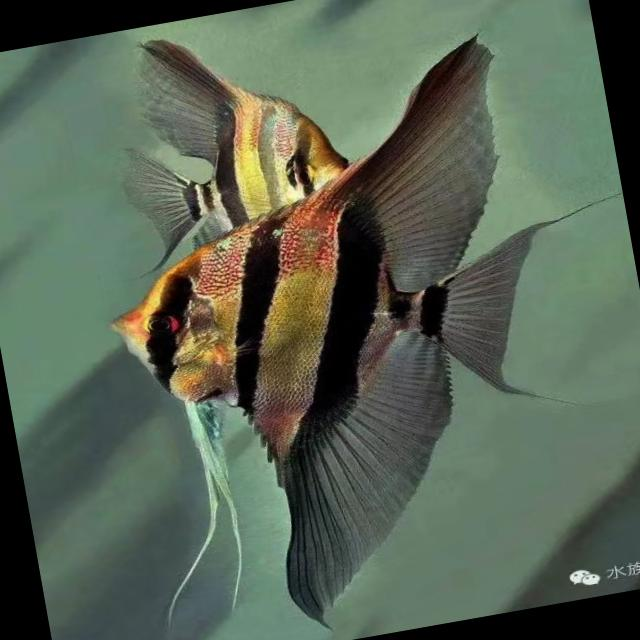AngelFish: (79, 39, 591, 636), (105, 13, 356, 245)
